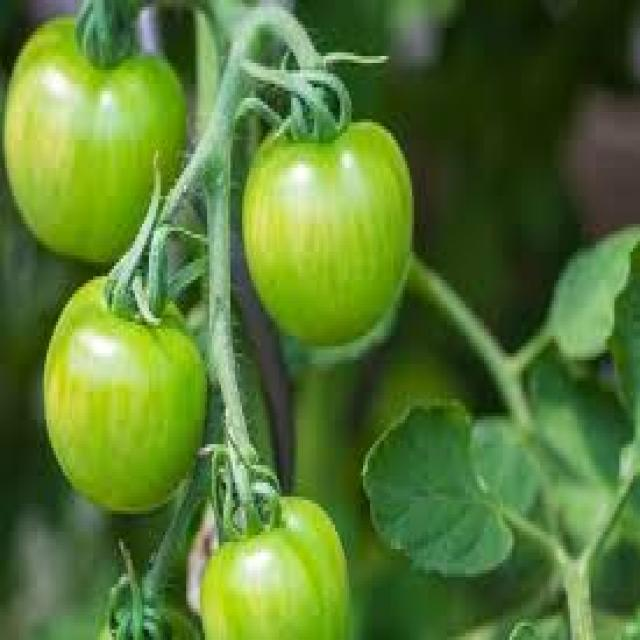organic waste: (39, 147, 210, 517), (235, 42, 414, 343), (0, 0, 188, 255), (193, 437, 349, 637), (361, 392, 512, 577), (86, 528, 179, 637)
